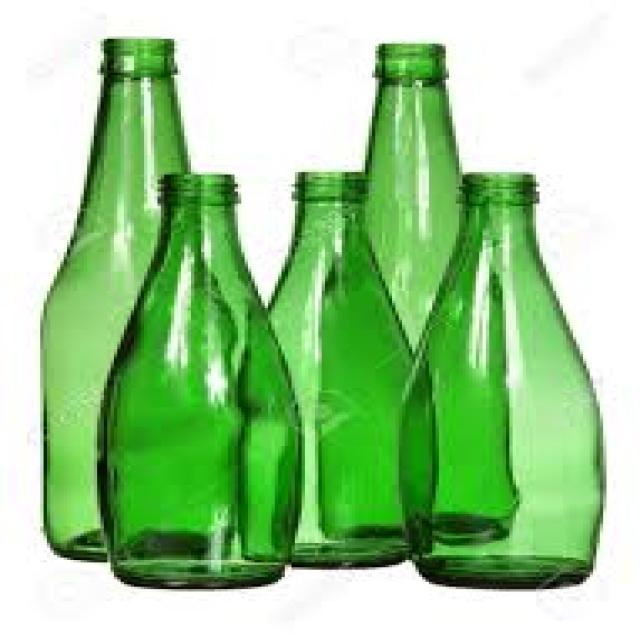glass: (315, 41, 516, 538), (396, 170, 607, 587), (34, 36, 201, 560), (94, 175, 298, 584), (231, 172, 432, 565)
